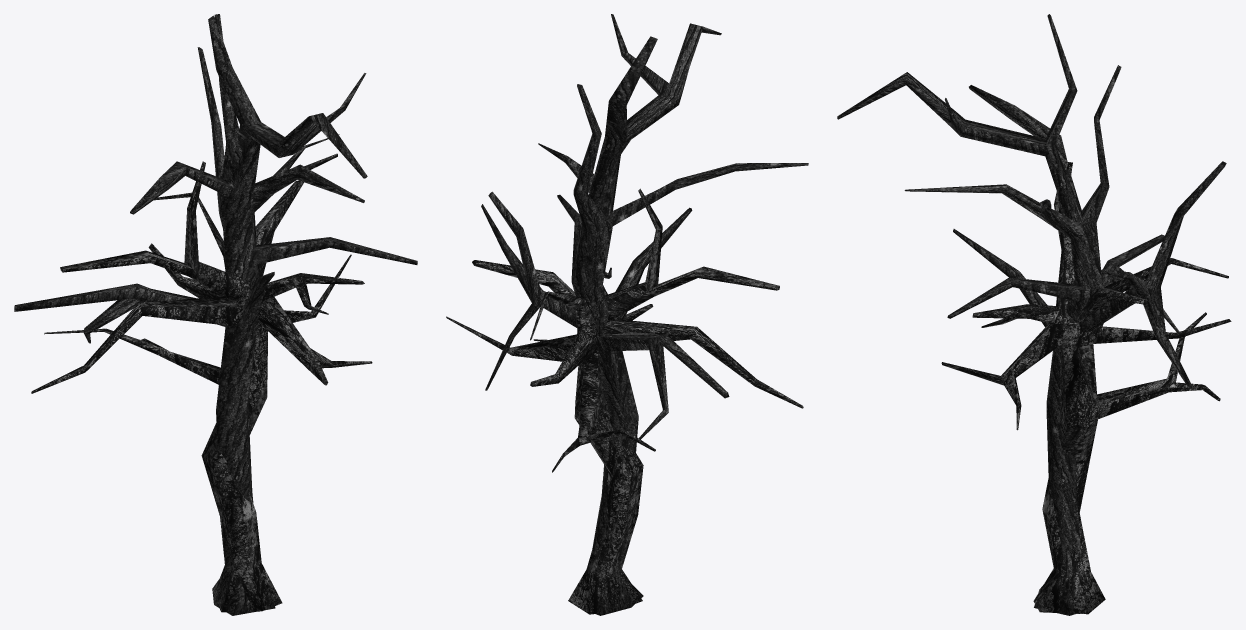
Rendered from tree2.fbx.
3 views of the same model, side by side, from view 1: azimuth 30°, elevation 25°; view 2: azimuth 150°, elevation 25°; view 3: azimuth 270°, elevation 25° (orthographic). The views are drawn at different scales.
Visible parts, largest first — view 1: Cube, Cube.001; view 2: Cube, Cube.001; view 3: Cube, Cube.001.
Boxes of the visible parts, x1=… form: Cube: x1=14, y1=14, x2=417, y2=615; Cube.001: x1=31, y1=161, x2=372, y2=612; Cube: x1=481, y1=14, x2=808, y2=615; Cube.001: x1=446, y1=188, x2=803, y2=614; Cube: x1=837, y1=14, x2=1226, y2=615; Cube.001: x1=941, y1=162, x2=1231, y2=614.
Bounding box in the file's own units: 1453 × 2385 × 1501.
